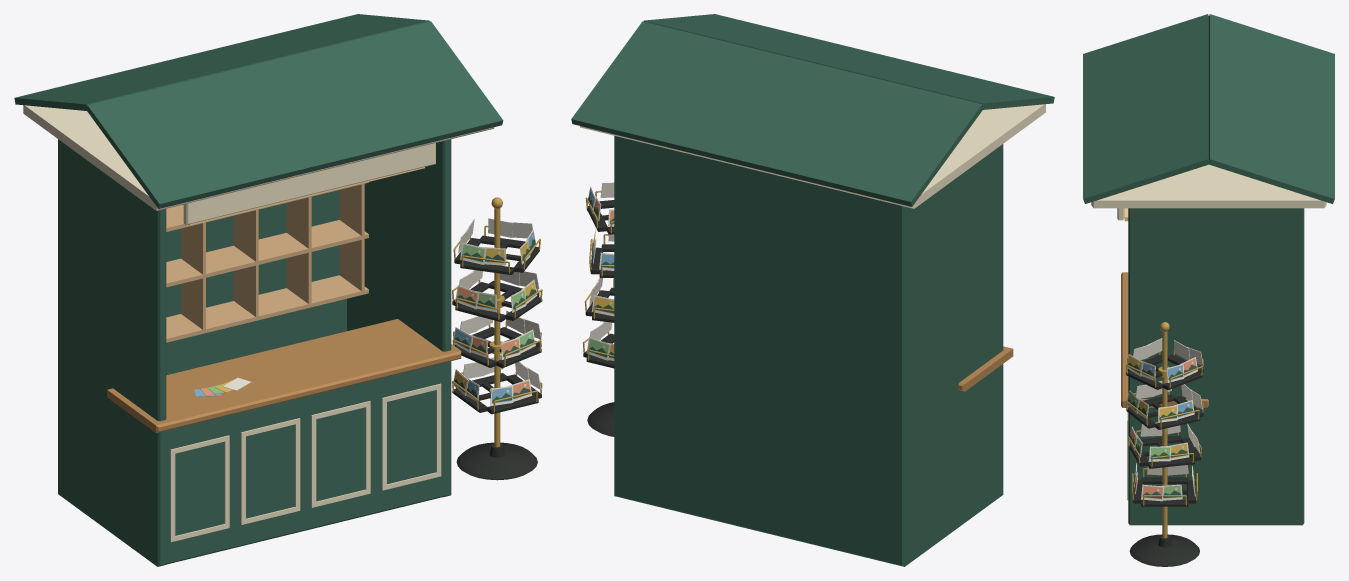
Rendered from kiosk.glb.
The picture shows the model from 3 angles, left to right: view 1: azimuth 30°, elevation 25°; view 2: azimuth 150°, elevation 25°; view 3: azimuth 270°, elevation 25°; orthographic projection. The views are drawn at different scales.
Visible parts, largest first — view 1: kiosk21, kiosk0, kiosk7, kiosk8, woodTop1, kiosk6, kiosk20, trim22, trim19, woodLight9, woodLight10, iron29 (+10 smaller); view 2: kiosk6, kiosk20, kiosk7, kiosk21, kiosk0, trim19, woodTop1, kiosk8, iron29; view 3: kiosk8, kiosk20, kiosk21, trim19, kiosk0, kiosk6, iron29, woodTop1, brass30, iron114.
Part boxes in pixels (bbox=[...]): kiosk21: bbox=[86, 21, 503, 208]; kiosk0: bbox=[117, 361, 449, 566]; kiosk7: bbox=[58, 141, 166, 566]; kiosk8: bbox=[347, 139, 451, 497]; woodTop1: bbox=[107, 319, 461, 432]; kiosk6: bbox=[58, 139, 346, 495]; kiosk20: bbox=[14, 14, 430, 110]; trim22: bbox=[183, 143, 435, 224]; trim19: bbox=[23, 105, 494, 210]; woodLight9: bbox=[166, 275, 368, 342]; woodLight10: bbox=[166, 220, 368, 287]; iron29: bbox=[456, 442, 537, 480]; kiosk6: bbox=[614, 136, 907, 566]; kiosk20: bbox=[571, 21, 983, 206]; kiosk7: bbox=[896, 144, 1003, 566]; kiosk21: bbox=[643, 14, 1054, 109]; kiosk0: bbox=[963, 364, 1002, 523]; trim19: bbox=[580, 104, 1045, 208]; woodTop1: bbox=[958, 346, 1013, 391]; kiosk8: bbox=[615, 136, 620, 494]; iron29: bbox=[587, 402, 614, 436]; kiosk8: bbox=[1128, 208, 1302, 525]; kiosk20: bbox=[1208, 14, 1334, 203]; kiosk21: bbox=[1083, 14, 1209, 203]; trim19: bbox=[1091, 164, 1326, 208]; kiosk0: bbox=[1130, 408, 1199, 525]; kiosk6: bbox=[1297, 208, 1304, 525]; iron29: bbox=[1129, 534, 1199, 566]; woodTop1: bbox=[1121, 272, 1208, 407]; brass30: bbox=[1162, 331, 1167, 538]; iron114: bbox=[1147, 457, 1195, 468].
Bounding box in the file's own units: 2.89 × 2.83 × 1.71.
